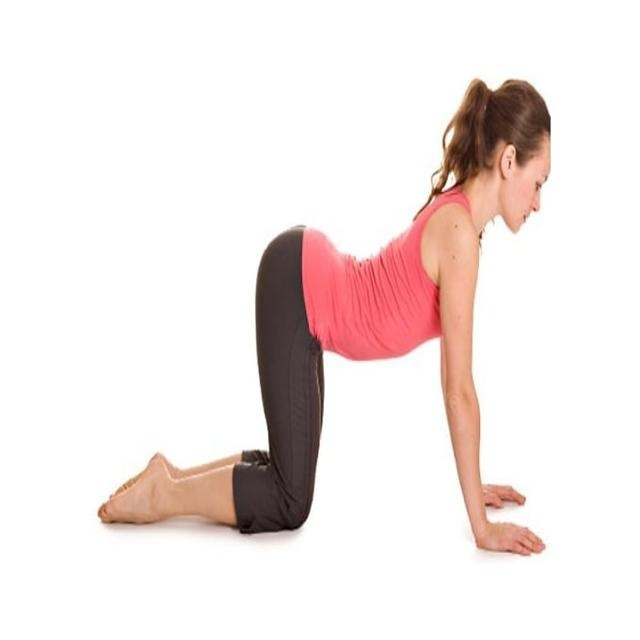Cow_Pose: (98, 82, 550, 556)
